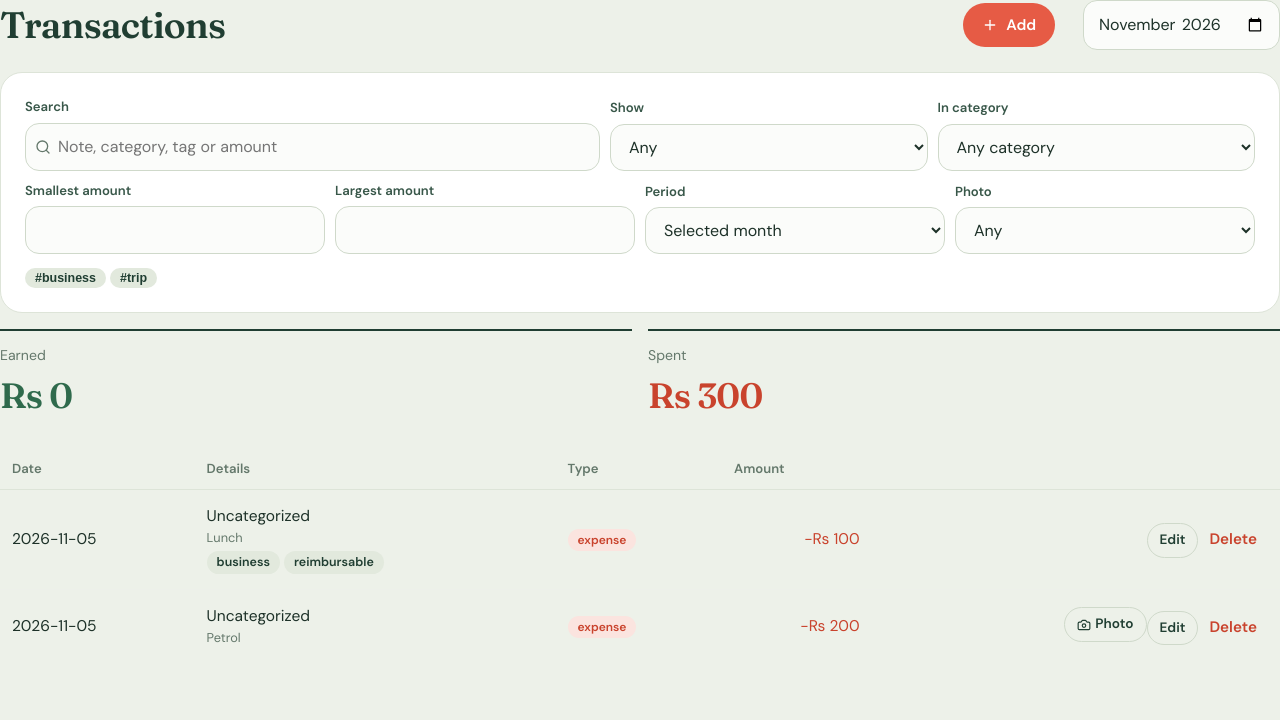
Scenario: Transactions tags and photos › says when the photo cannot be loaded
Expected: the text "Lunch" is shown, [207, 529, 243, 546]
Click the button with aria-label "View photo" at (1105, 625), box [1064, 607, 1146, 642]
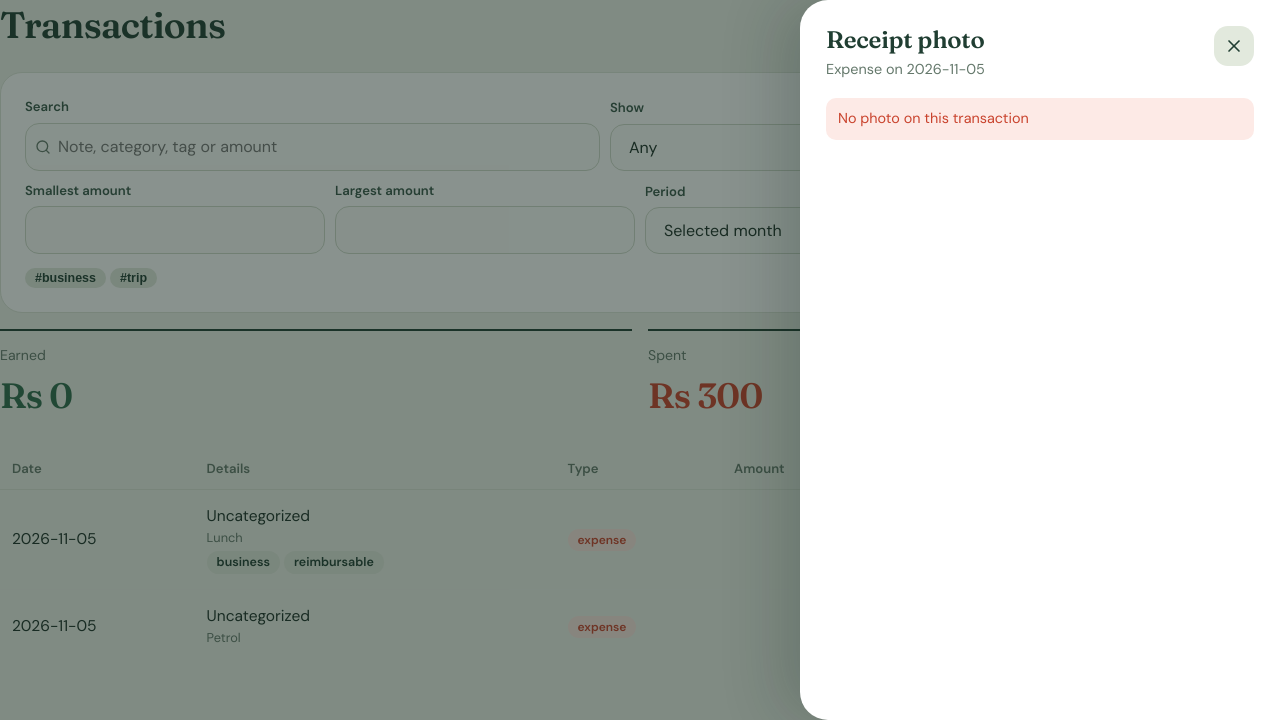
Expected: the text "No photo on this transaction" is shown, [826, 98, 1254, 140]
